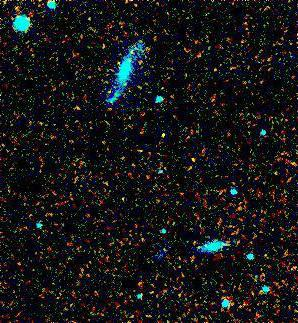star: (182, 143, 212, 173)
